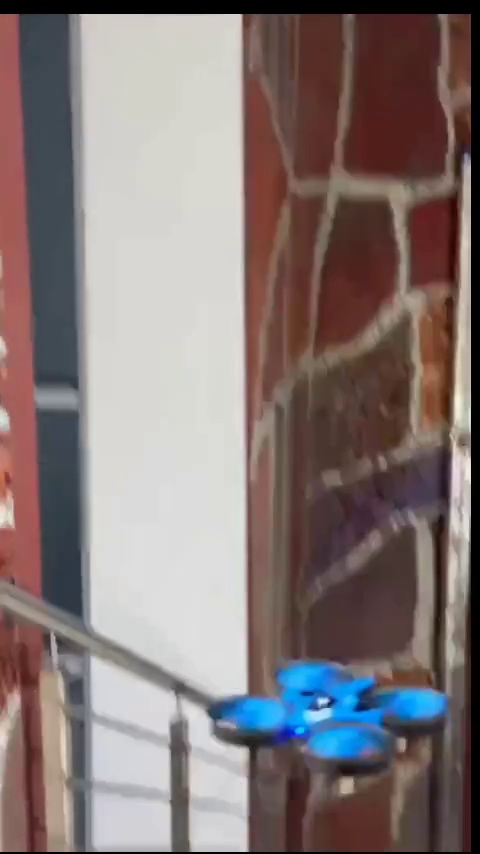drone: (213, 662, 466, 796)
